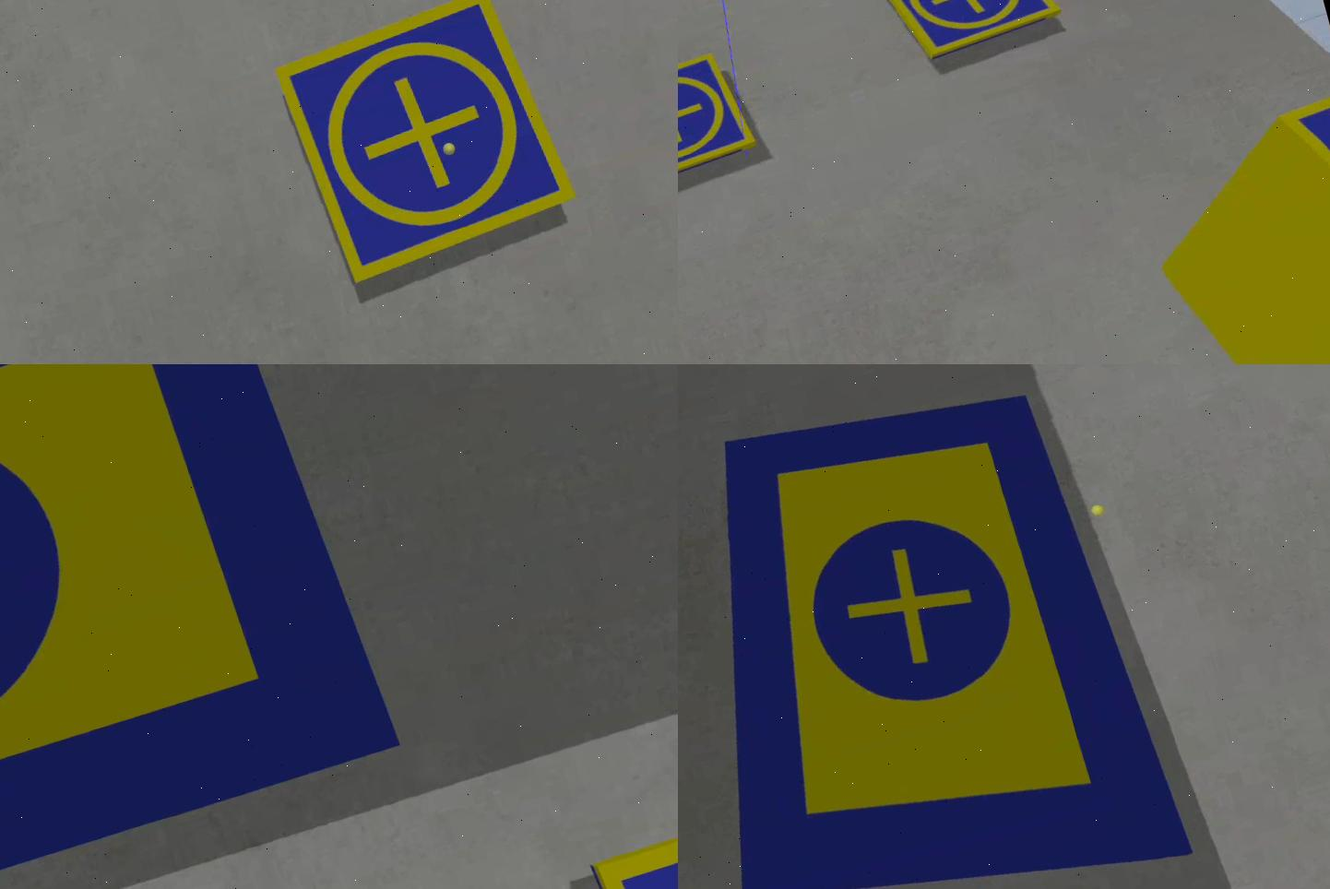large_base: (679, 365, 1197, 889), (1, 365, 415, 889)
small_base: (269, 1, 591, 297), (874, 1, 1065, 73), (679, 48, 765, 196), (588, 779, 679, 889), (1277, 89, 1330, 229)
